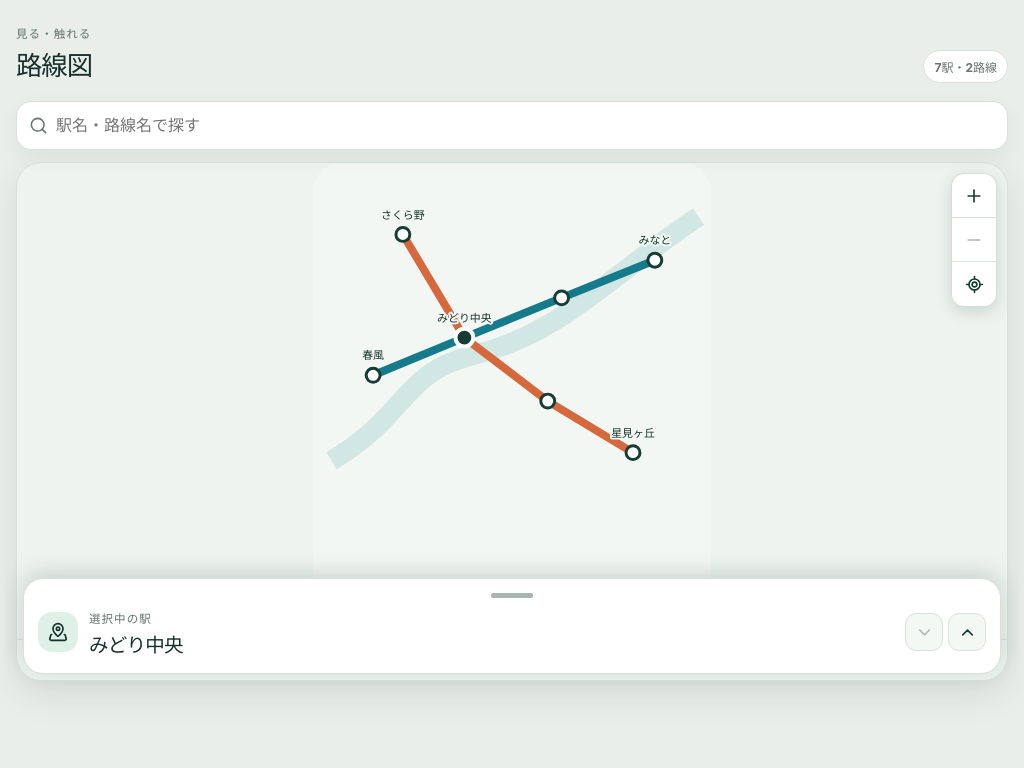
Test: MapTab viewport › changes the station information panel through three sizes
Check: the element named "小サイズ" is shown, box [23, 578, 1001, 674]
Click the button named "駅情報パネルを大きくする" at (967, 632), box [948, 613, 986, 651]
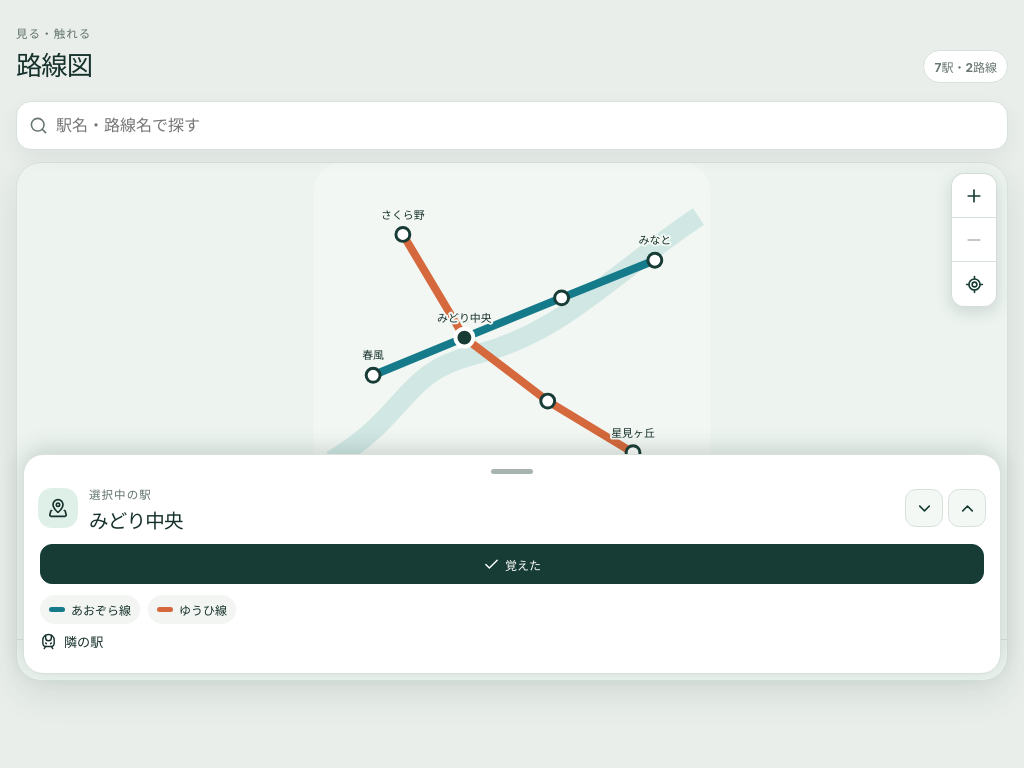
Check: the element named "中サイズ" is shown, box [23, 454, 1001, 674]
Click the button named "駅情報パネルを大きくする" at (967, 508), box [948, 489, 986, 527]
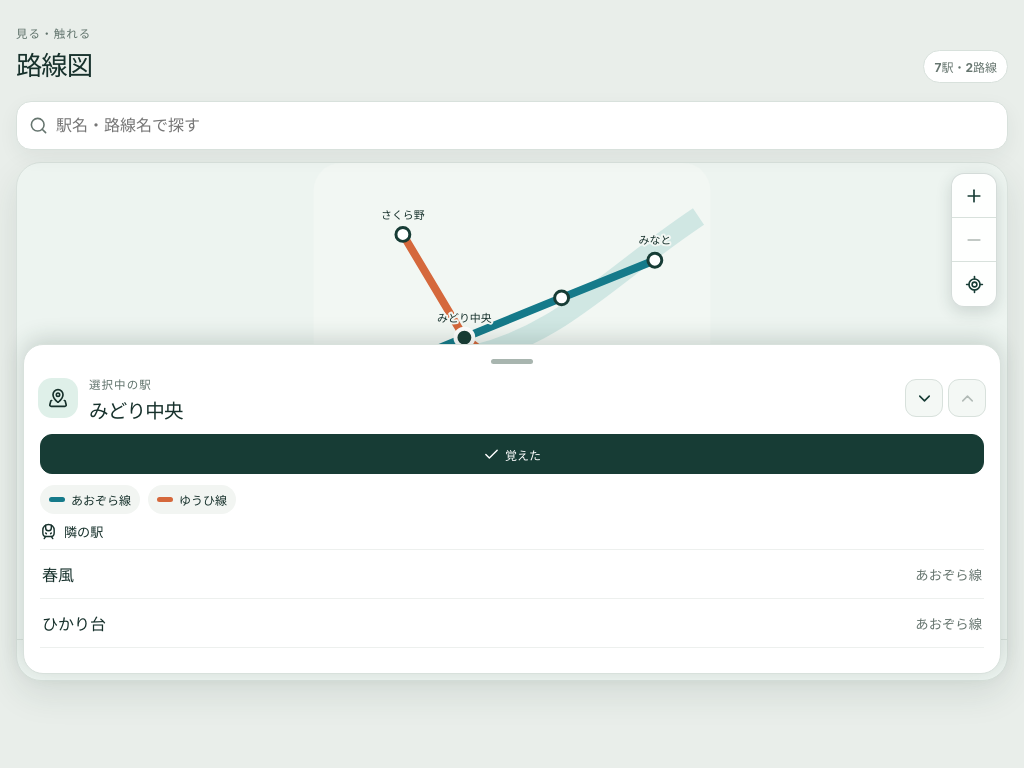
Check: the element named "大サイズ" is shown, box [23, 344, 1001, 674]
Click the button named "駅情報パネルを小さくする" at (924, 398), box [905, 379, 943, 417]
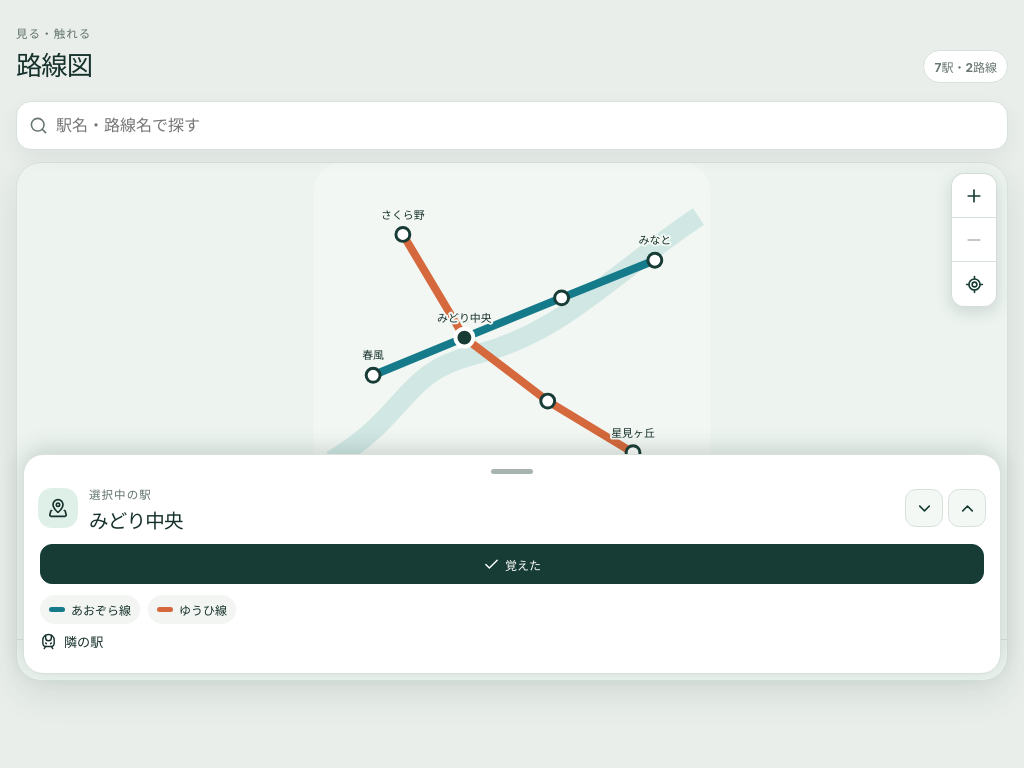
Check: the element named "中サイズ" is shown, box [23, 454, 1001, 674]
